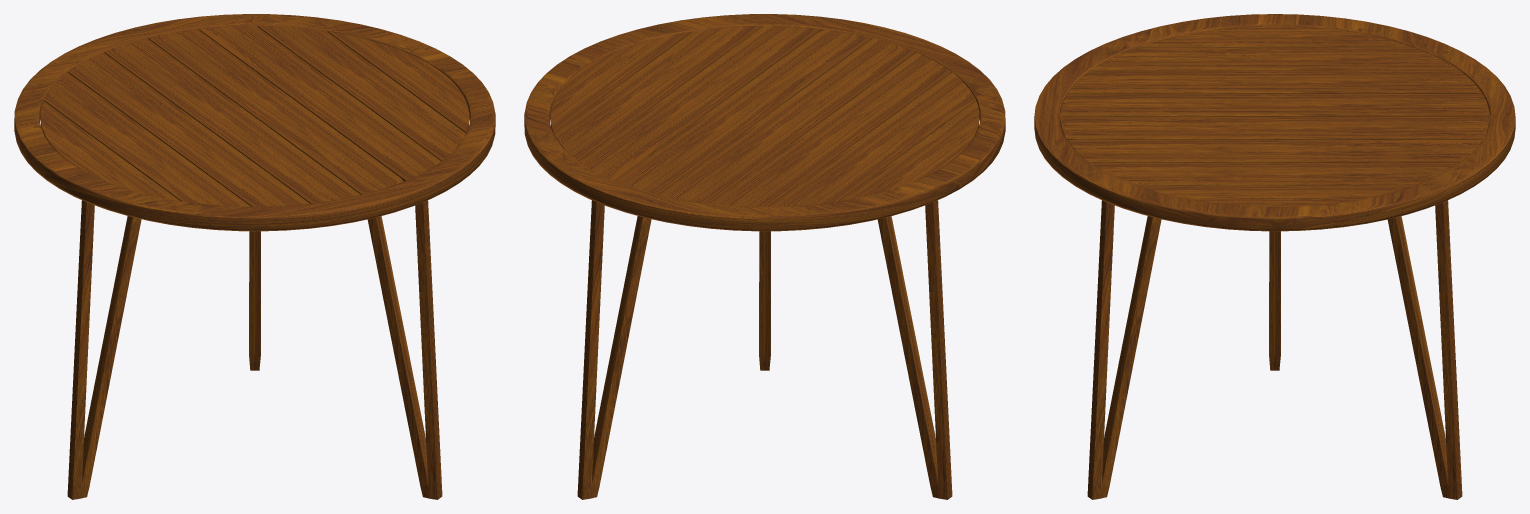
The model's file is Rama-Big-Round-Table.glb.
3 renders of one model, left to right at view 1: azimuth 30°, elevation 25°; view 2: azimuth 150°, elevation 25°; view 3: azimuth 270°, elevation 25°, orthographic.
Parts seen in each view (by area): view 1: Cube.001, Cylinder, Cube.003, Cube.002, Cube.004; view 2: Cube.001, Cylinder, Cube.002, Cube.004, Cube.003; view 3: Cube.001, Cylinder, Cube.004, Cube.003, Cube.002.
Boxes of the visible parts, <box> form: Cube.001: <box>40,25,469,206</box>; Cylinder: <box>14,14,495,231</box>; Cube.003: <box>367,200,442,499</box>; Cube.002: <box>67,200,141,499</box>; Cube.004: <box>249,231,260,370</box>; Cube.001: <box>550,25,979,206</box>; Cylinder: <box>524,14,1005,231</box>; Cube.002: <box>877,200,952,499</box>; Cube.004: <box>577,200,651,499</box>; Cube.003: <box>759,231,770,370</box>; Cube.001: <box>1059,26,1490,206</box>; Cylinder: <box>1034,14,1515,231</box>; Cube.004: <box>1387,200,1462,499</box>; Cube.003: <box>1087,200,1161,499</box>; Cube.002: <box>1269,231,1280,370</box>.
Bounding box in the file's own units: 0.5962 × 0.4627 × 0.5962.
Materials: 1 (1 with a texture image).
